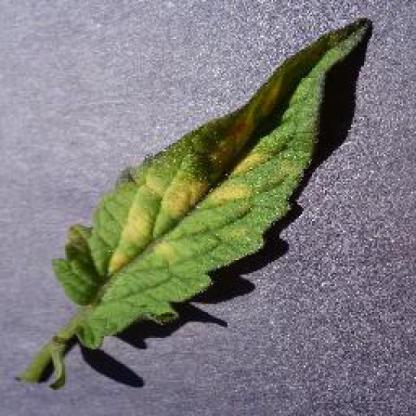Tomato_Leaf_Mold: (53, 17, 369, 321)
